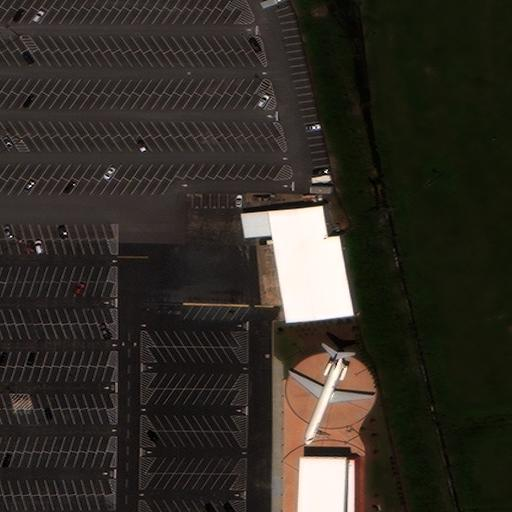Medium Civil Transport: (288, 348, 374, 447)
